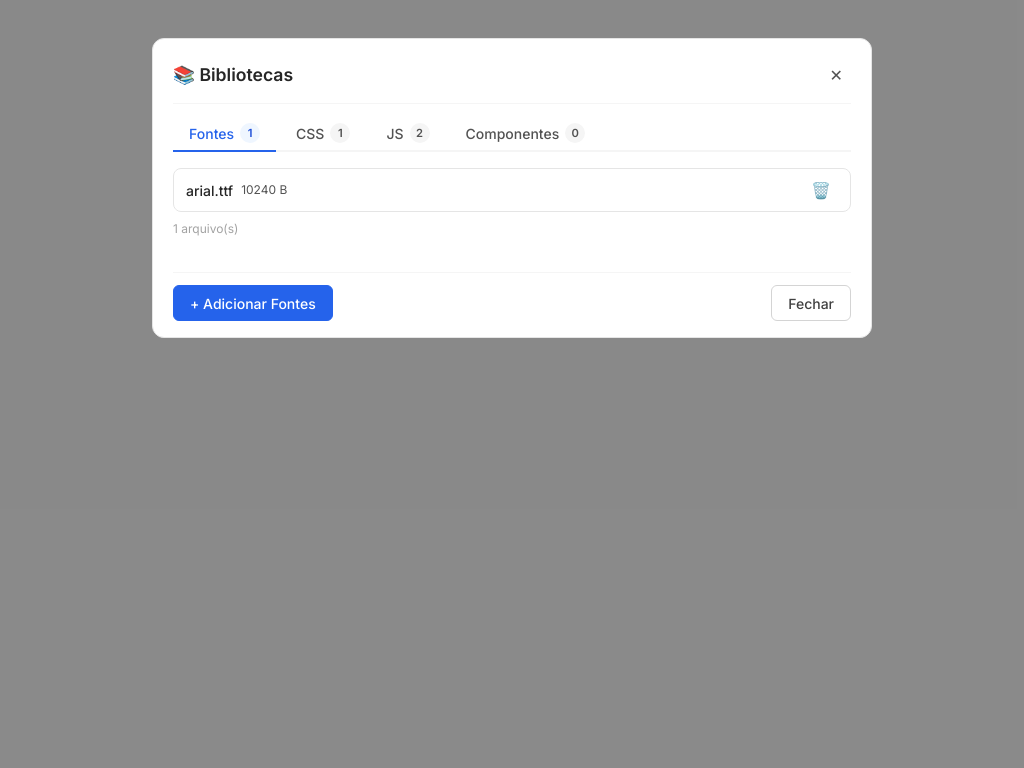
Test: BibliotecasModal › aba JS exibe libs de sistema
The image size is (1024, 768).
Step 1. Click the tab "JS 2" → (408, 134), box 370,116 -> 446,152
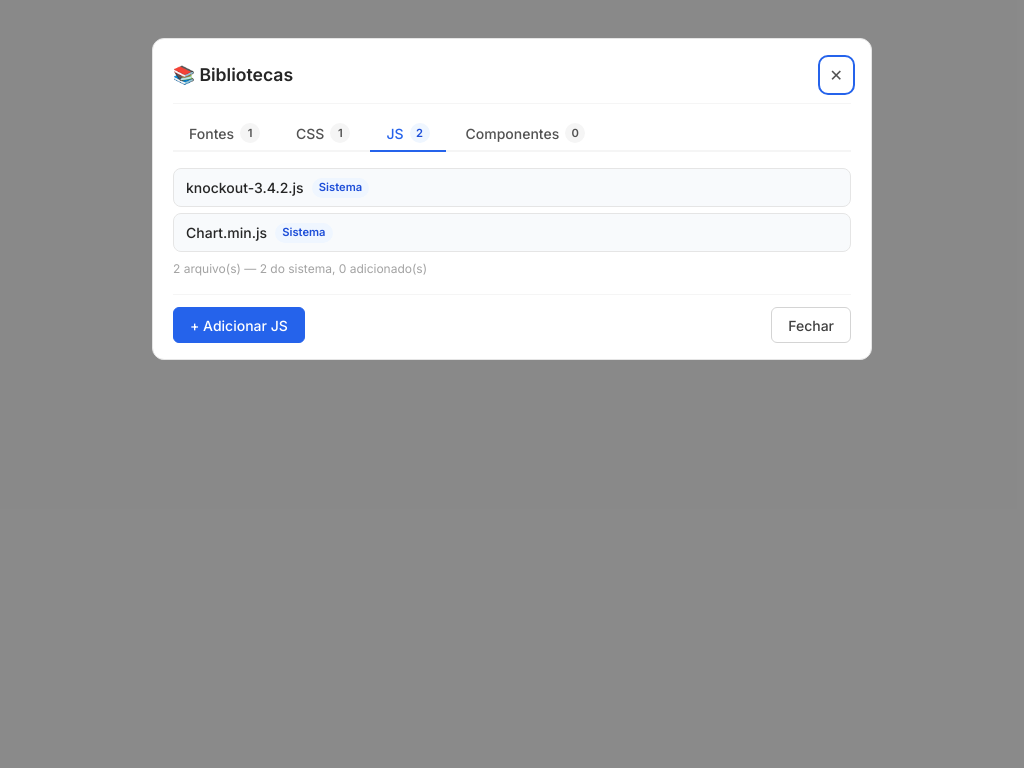
Expected: the text "knockout-3.4.2.js" is shown, 186,177 -> 304,198
Expected: the text "Chart.min.js" is shown, 186,222 -> 267,243
